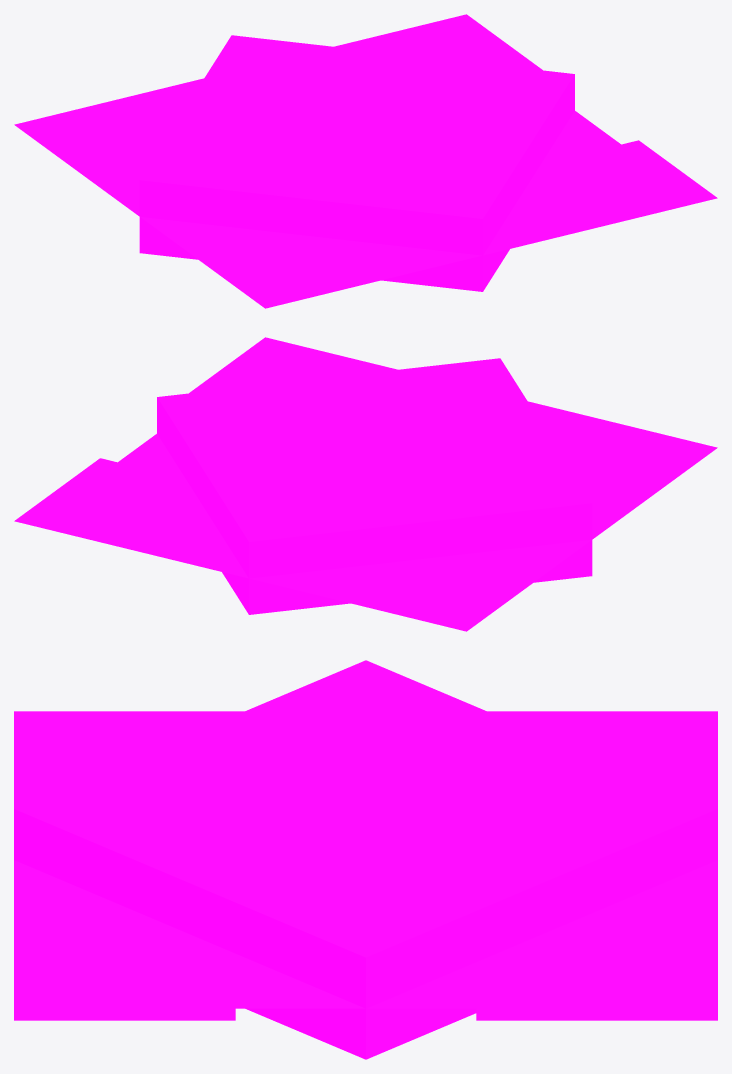
The model's file is Collectible_GhostChip.fbx.
3 views of the same model, one above another, from view 1: azimuth 30°, elevation 25°; view 2: azimuth 150°, elevation 25°; view 3: azimuth 270°, elevation 25° (orthographic). The views are drawn at different scales.
Parts seen in each view (by area): view 1: GhostChip; view 2: GhostChip; view 3: GhostChip.
Boxes of the visible parts, left/top/right/bottom form: GhostChip: left=14, top=14, right=717, bottom=308; GhostChip: left=14, top=337, right=717, bottom=631; GhostChip: left=14, top=660, right=717, bottom=1059.
Bounding box in the file's own units: 0.26 × 0.25 × 0.04.
